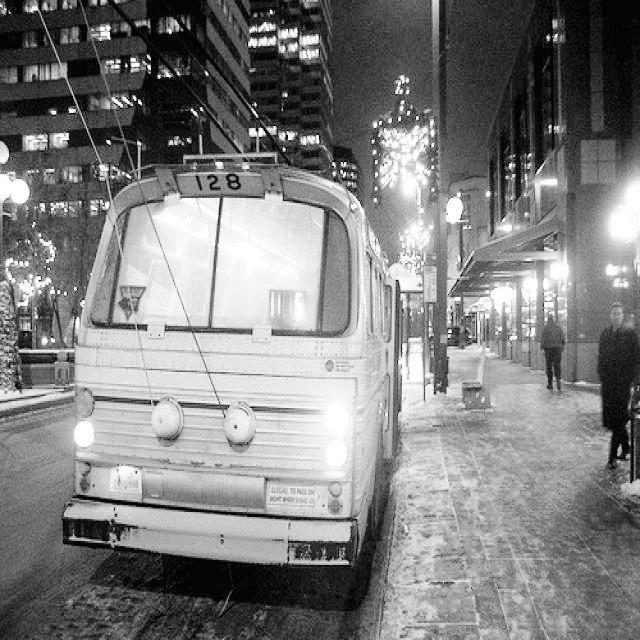Bus: (43, 146, 414, 581)
Person: (596, 299, 640, 476)
